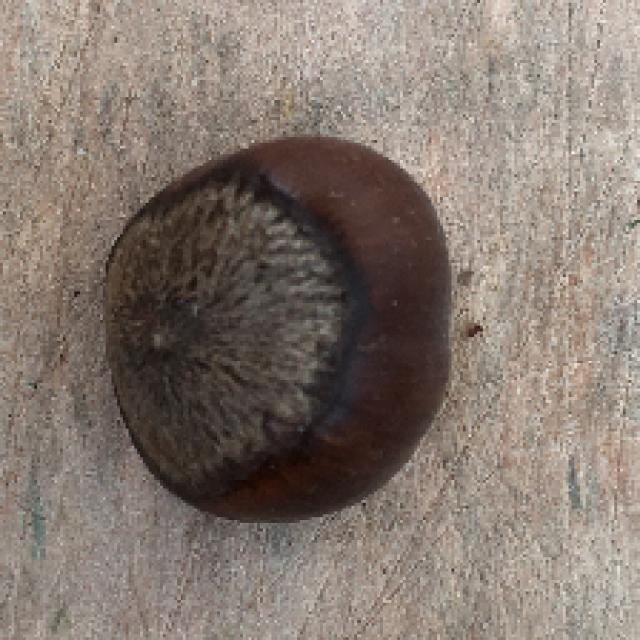damagedHazelnut: (88, 126, 462, 533)
